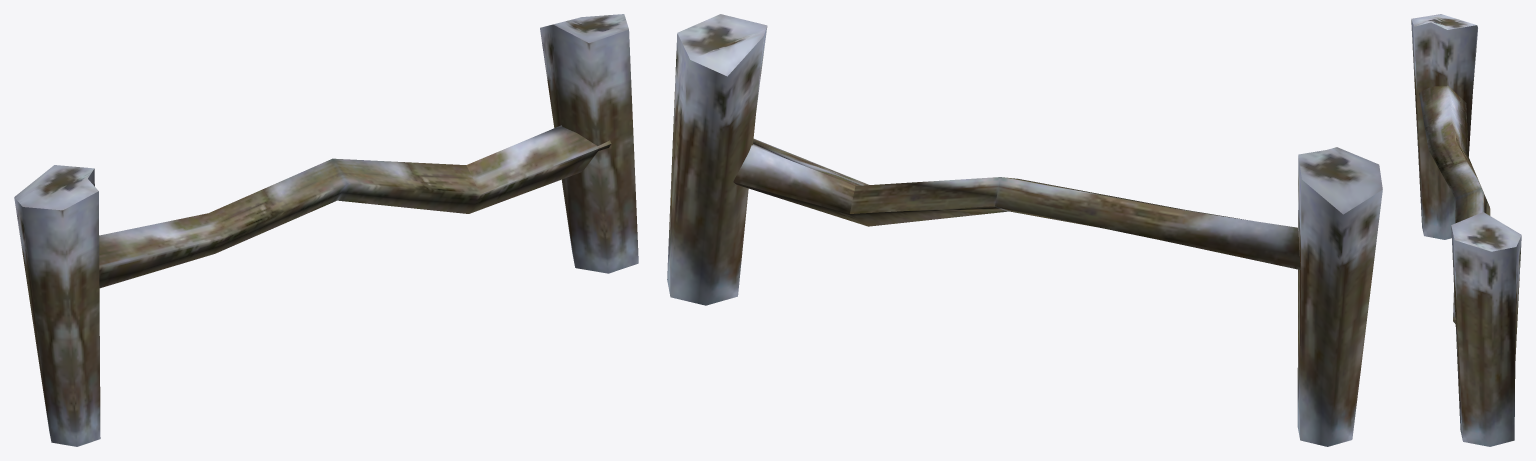
3 renders of one model, left to right at view 1: azimuth 30°, elevation 25°; view 2: azimuth 150°, elevation 25°; view 3: azimuth 270°, elevation 25°, orthographic. The views are drawn at different scales.
Visible parts, largest first — view 1: polySurface10; view 2: polySurface10; view 3: polySurface10.
Part boxes in pixels (x1,y1,x2,y2): polySurface10: (14, 14, 638, 446); polySurface10: (667, 14, 1382, 446); polySurface10: (1411, 14, 1521, 446).
Size of the model in its own units: 13.46 by 5.41 by 2.47.
